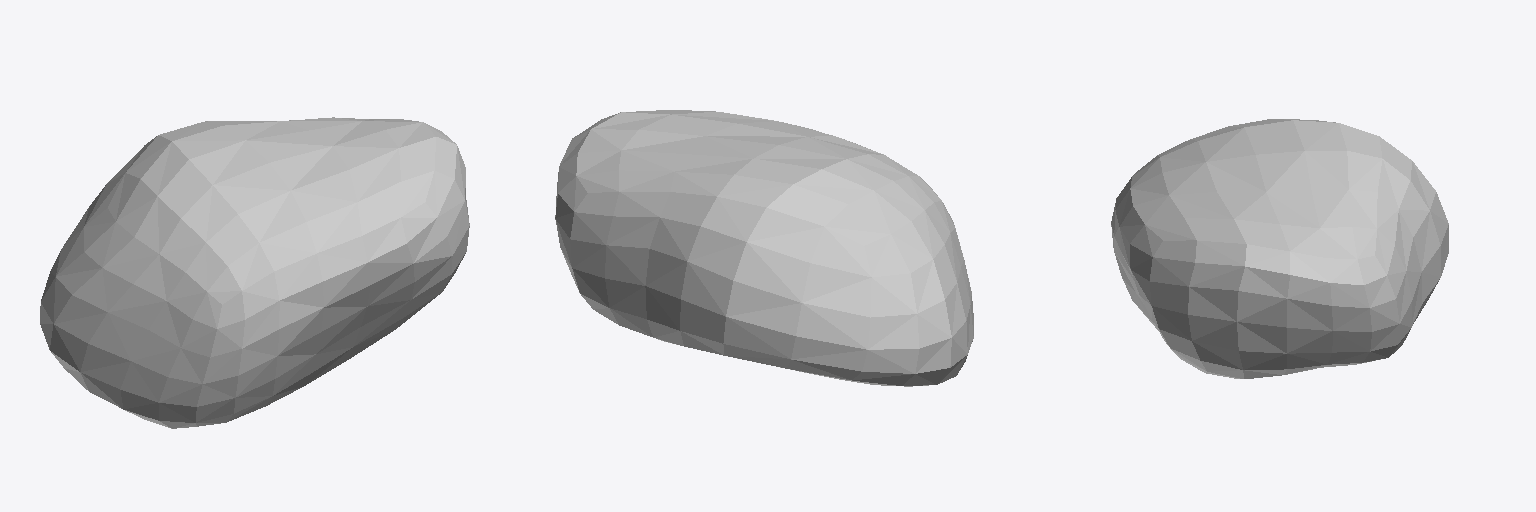
Rendered from asteroid_02.obj.
3 views of the same model, side by side, from view 1: azimuth 30°, elevation 25°; view 2: azimuth 150°, elevation 25°; view 3: azimuth 270°, elevation 25° (orthographic).
Visible parts, largest first — view 1: asteroid2_Cube.002; view 2: asteroid2_Cube.002; view 3: asteroid2_Cube.002.
Part boxes in pixels (bbox=[...]): asteroid2_Cube.002: bbox=[40, 117, 469, 428]; asteroid2_Cube.002: bbox=[555, 110, 973, 386]; asteroid2_Cube.002: bbox=[1111, 119, 1448, 378].
Size of the model in its own units: 2329 by 1219 by 1754.